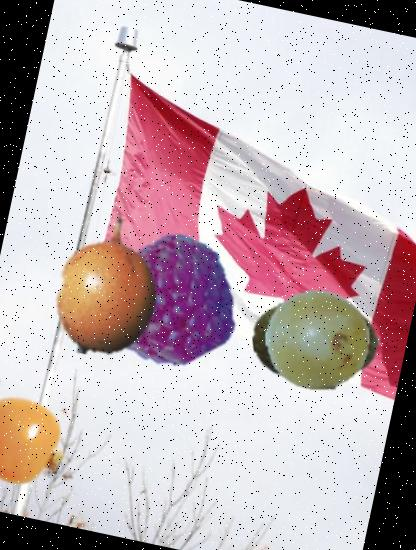Granadilla: (22, 199, 194, 371)
Grape: (254, 278, 379, 403)
Melon: (240, 264, 391, 415)
Physalis: (0, 390, 75, 497)
Raspberry: (90, 224, 247, 381)
